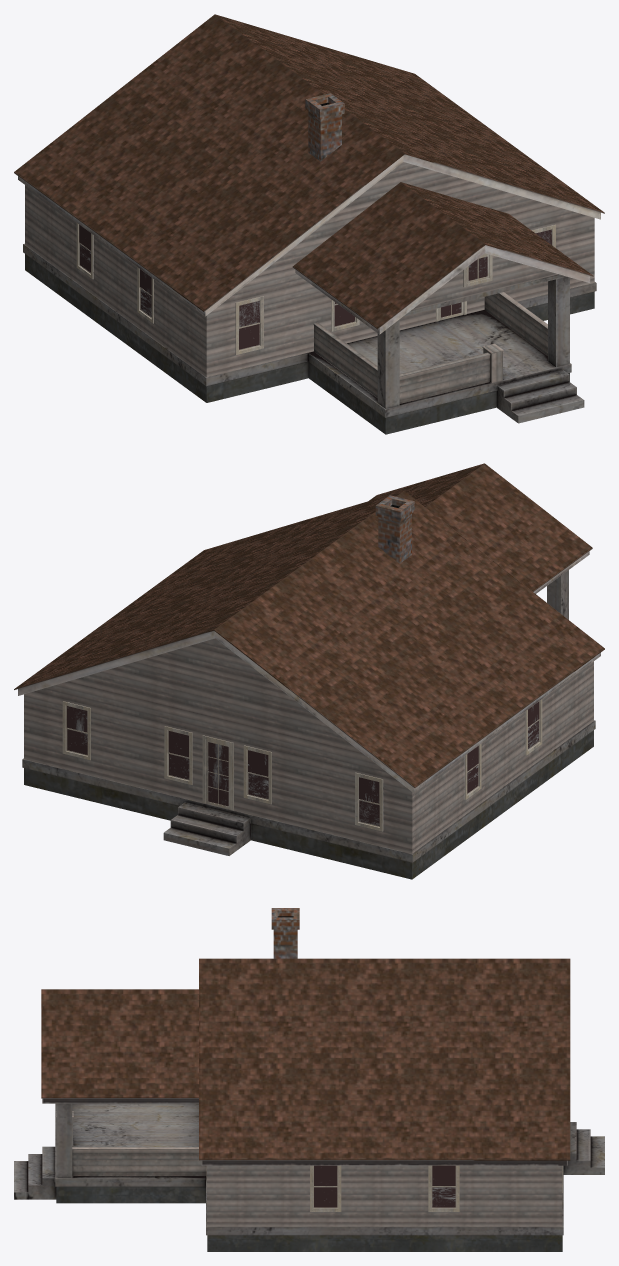
The model's file is Brandon_Home_05-v1.glb.
The picture shows the model from 3 angles, top to bottom: view 1: azimuth 30°, elevation 25°; view 2: azimuth 150°, elevation 25°; view 3: azimuth 270°, elevation 25°; orthographic projection. The views are drawn at different scales.
Visible parts, largest first — view 1: Roofs1, polySurface6, False_Roof, Windows_Roofs; view 2: Roofs1, False_Roof, polySurface6, Windows_Roofs; view 3: Roofs1, polySurface6, False_Roof, Windows_Roofs.
Part boxes in pixels (x1,y1,x2,y2): Roofs1: [14, 14, 604, 329]; polySurface6: [23, 235, 596, 434]; False_Roof: [18, 154, 600, 377]; Windows_Roofs: [76, 223, 555, 354]; Roofs1: [14, 463, 604, 788]; False_Roof: [18, 551, 600, 853]; polySurface6: [22, 570, 595, 879]; Windows_Roofs: [62, 699, 542, 831]; Roofs1: [41, 908, 570, 1160]; polySurface6: [14, 1103, 604, 1251]; False_Roof: [42, 1098, 567, 1226]; Windows_Roofs: [206, 1165, 562, 1211].
Bounding box in the file's own units: 1367 × 761 × 1785.
4 materials, 4 textured.
